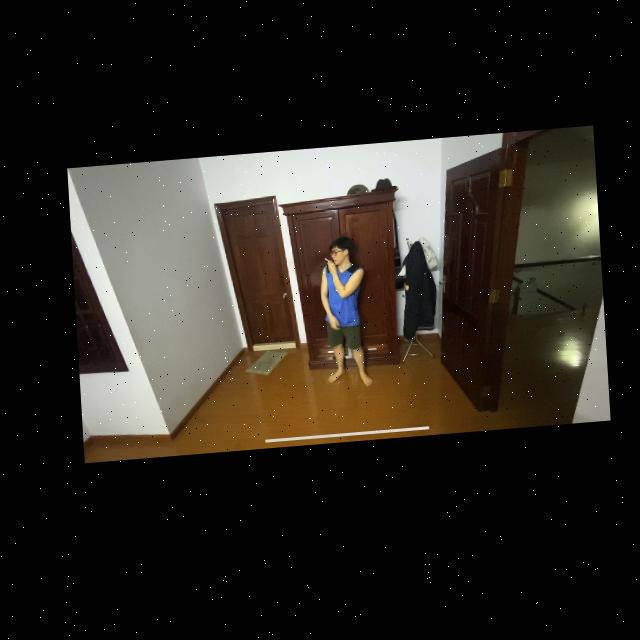cigarette: (321, 262, 326, 266)
